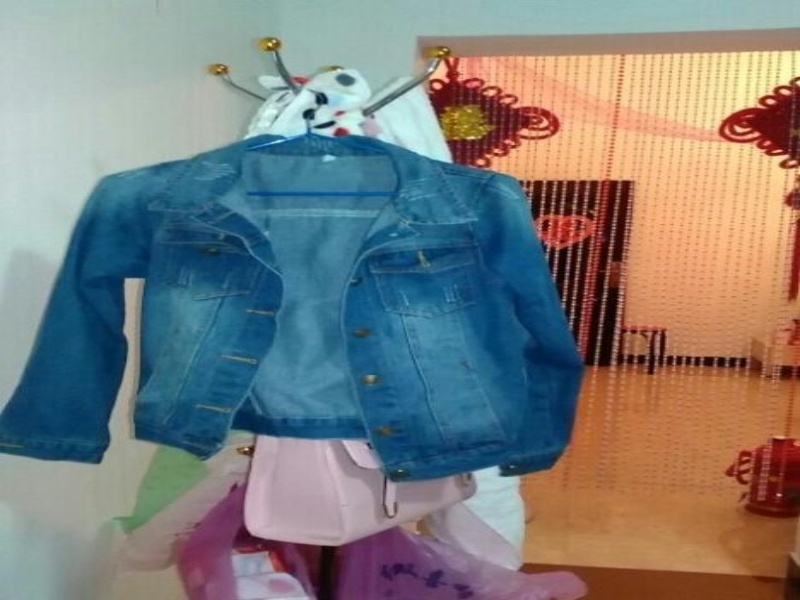long_sleeved_outwear: (0, 124, 590, 488)
